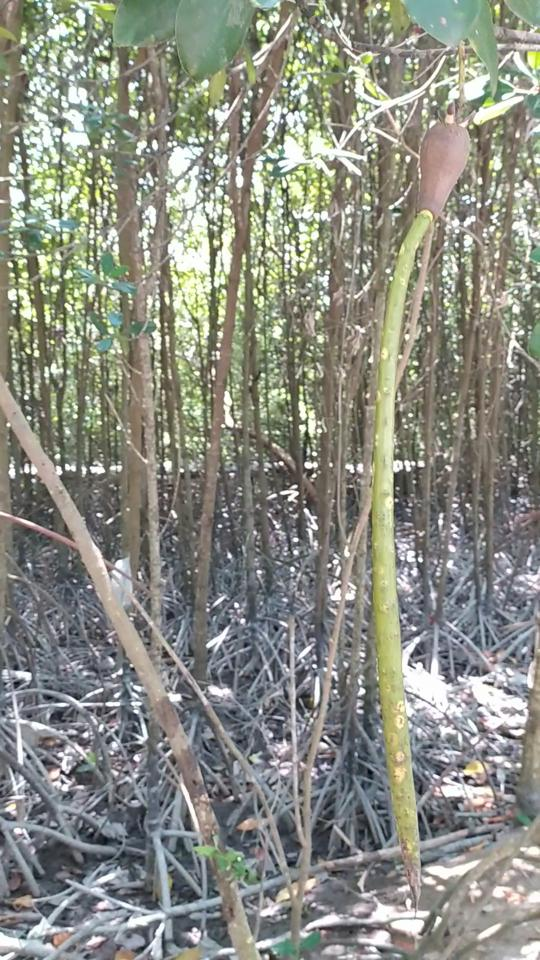setengah matang: (364, 89, 494, 915)
